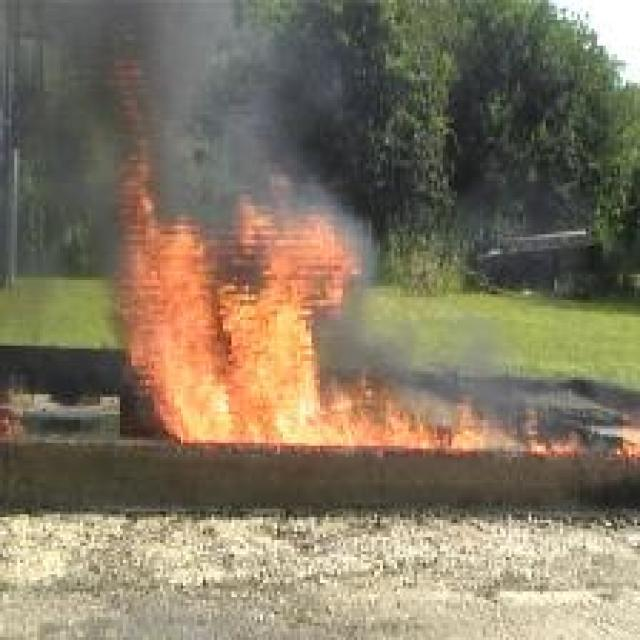Fire: (114, 58, 486, 453), (526, 407, 580, 453)
